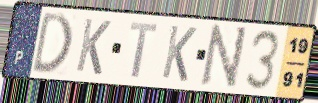3: (243, 28, 281, 93)
D: (30, 10, 74, 75)
K: (73, 16, 113, 77), (159, 22, 198, 84)
N: (198, 23, 250, 92)
T: (128, 20, 160, 80)
